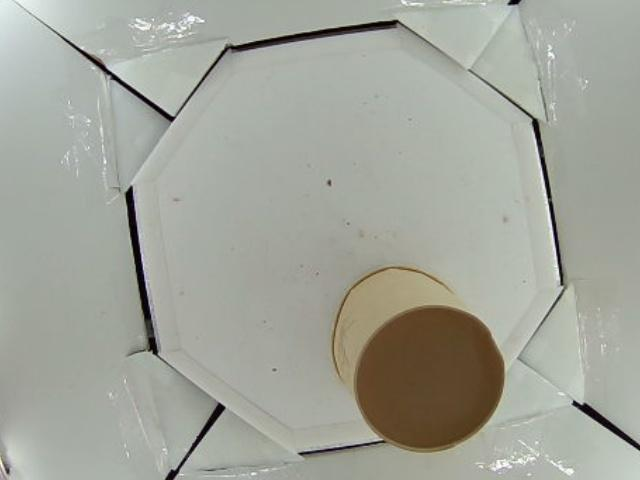Cup: (331, 265, 507, 452)
